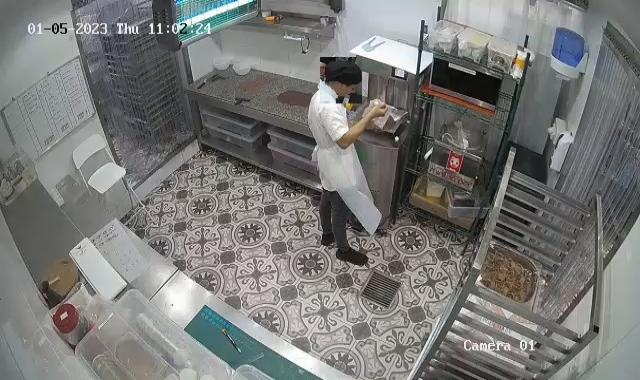no_hairnet: (322, 56, 364, 90)
